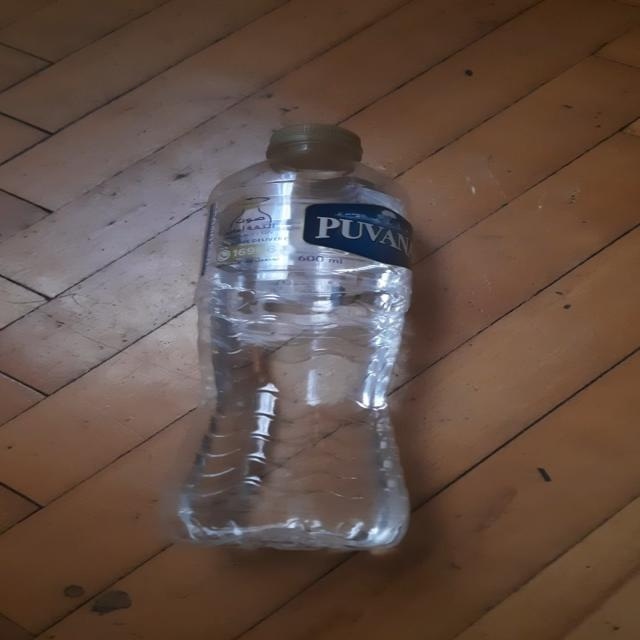Plastic: (176, 125, 414, 554)
